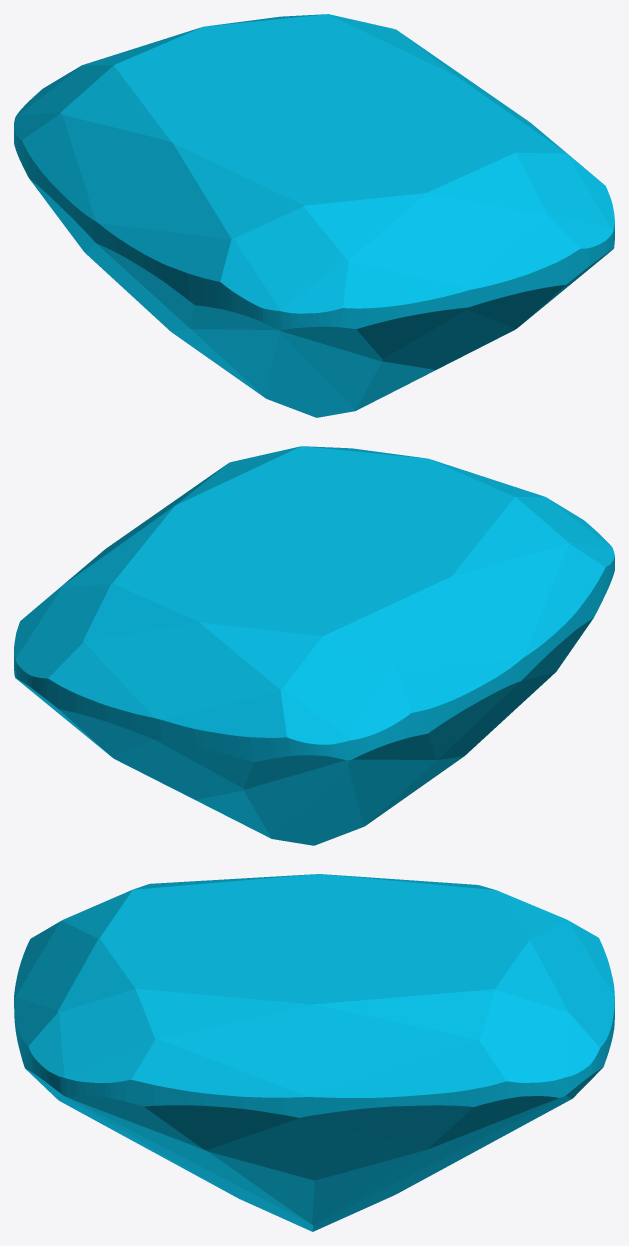
File: Head_Hidden Halo_Elongated Cushion_2.0ct_Diamond.glb
3 renders of one model, top to bottom at view 1: azimuth 30°, elevation 25°; view 2: azimuth 150°, elevation 25°; view 3: azimuth 270°, elevation 25°, orthographic. The views are drawn at different scales.
Size of the model in its own units: 0.00681 by 0.0047 by 0.00875.
